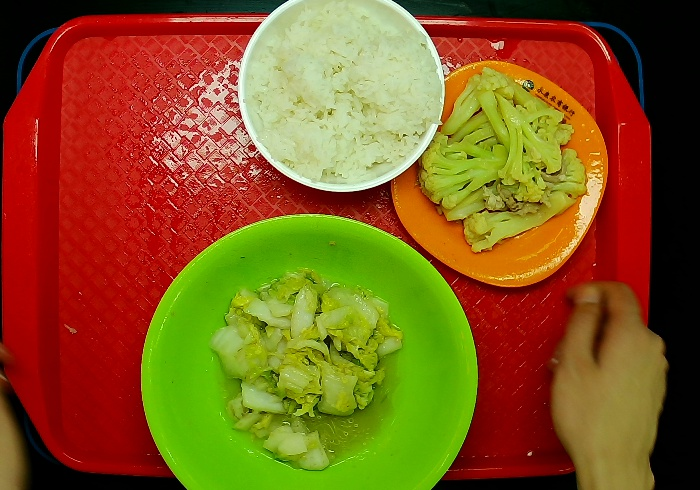YKMZ-Fan_Wan: (231, 1, 442, 196)
YKMZ-Ju_Se_Fang_Die: (384, 64, 615, 295)
YKMZ-Lv_Se_Tang_Wan: (135, 213, 472, 490)
